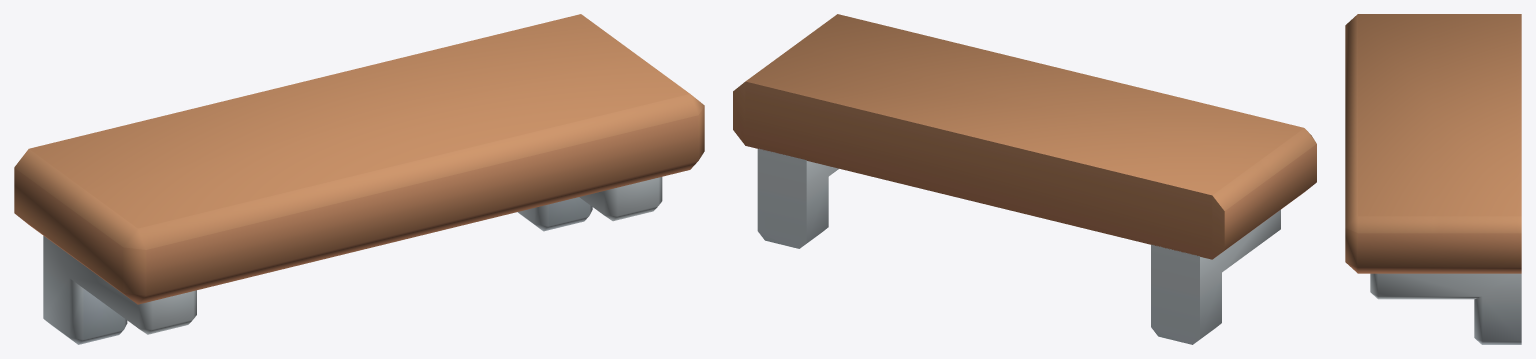
File: wall-shelf.glb
3 views of the same model, side by side, from view 1: azimuth 30°, elevation 25°; view 2: azimuth 150°, elevation 25°; view 3: azimuth 270°, elevation 25° (orthographic). The views are drawn at different scales.
Parts seen in each view (by area): view 1: wall_shelf; view 2: wall_shelf; view 3: wall_shelf.
Part boxes in pixels (left/top/right/bottom): wall_shelf: left=14, top=14, right=704, bottom=344; wall_shelf: left=733, top=14, right=1316, bottom=344; wall_shelf: left=1345, top=14, right=1521, bottom=344.
Bounding box in the file's own units: 2 × 0.6 × 0.7.
1 material, 1 textured.
